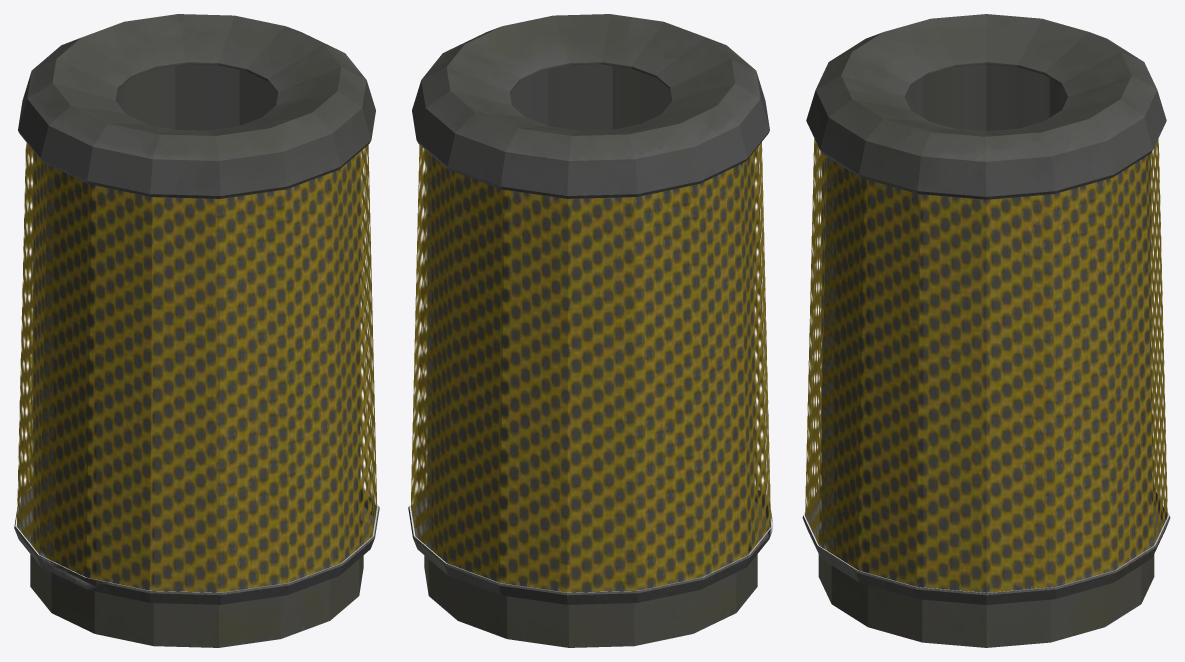
Rendered from strProp_15.glb.
3 renders of one model, left to right at view 1: azimuth 30°, elevation 25°; view 2: azimuth 150°, elevation 25°; view 3: azimuth 270°, elevation 25°, orthographic.
Parts seen in each view (by area): view 1: geometry_0; view 2: geometry_0; view 3: geometry_0.
Boxes of the visible parts, <box> form: geometry_0: <box>14,14,379,647</box>; geometry_0: <box>408,14,772,647</box>; geometry_0: <box>802,14,1170,647</box>.
Bounding box in the file's own units: 0.6087 × 0.9156 × 0.6087.
1 material, 1 textured.
